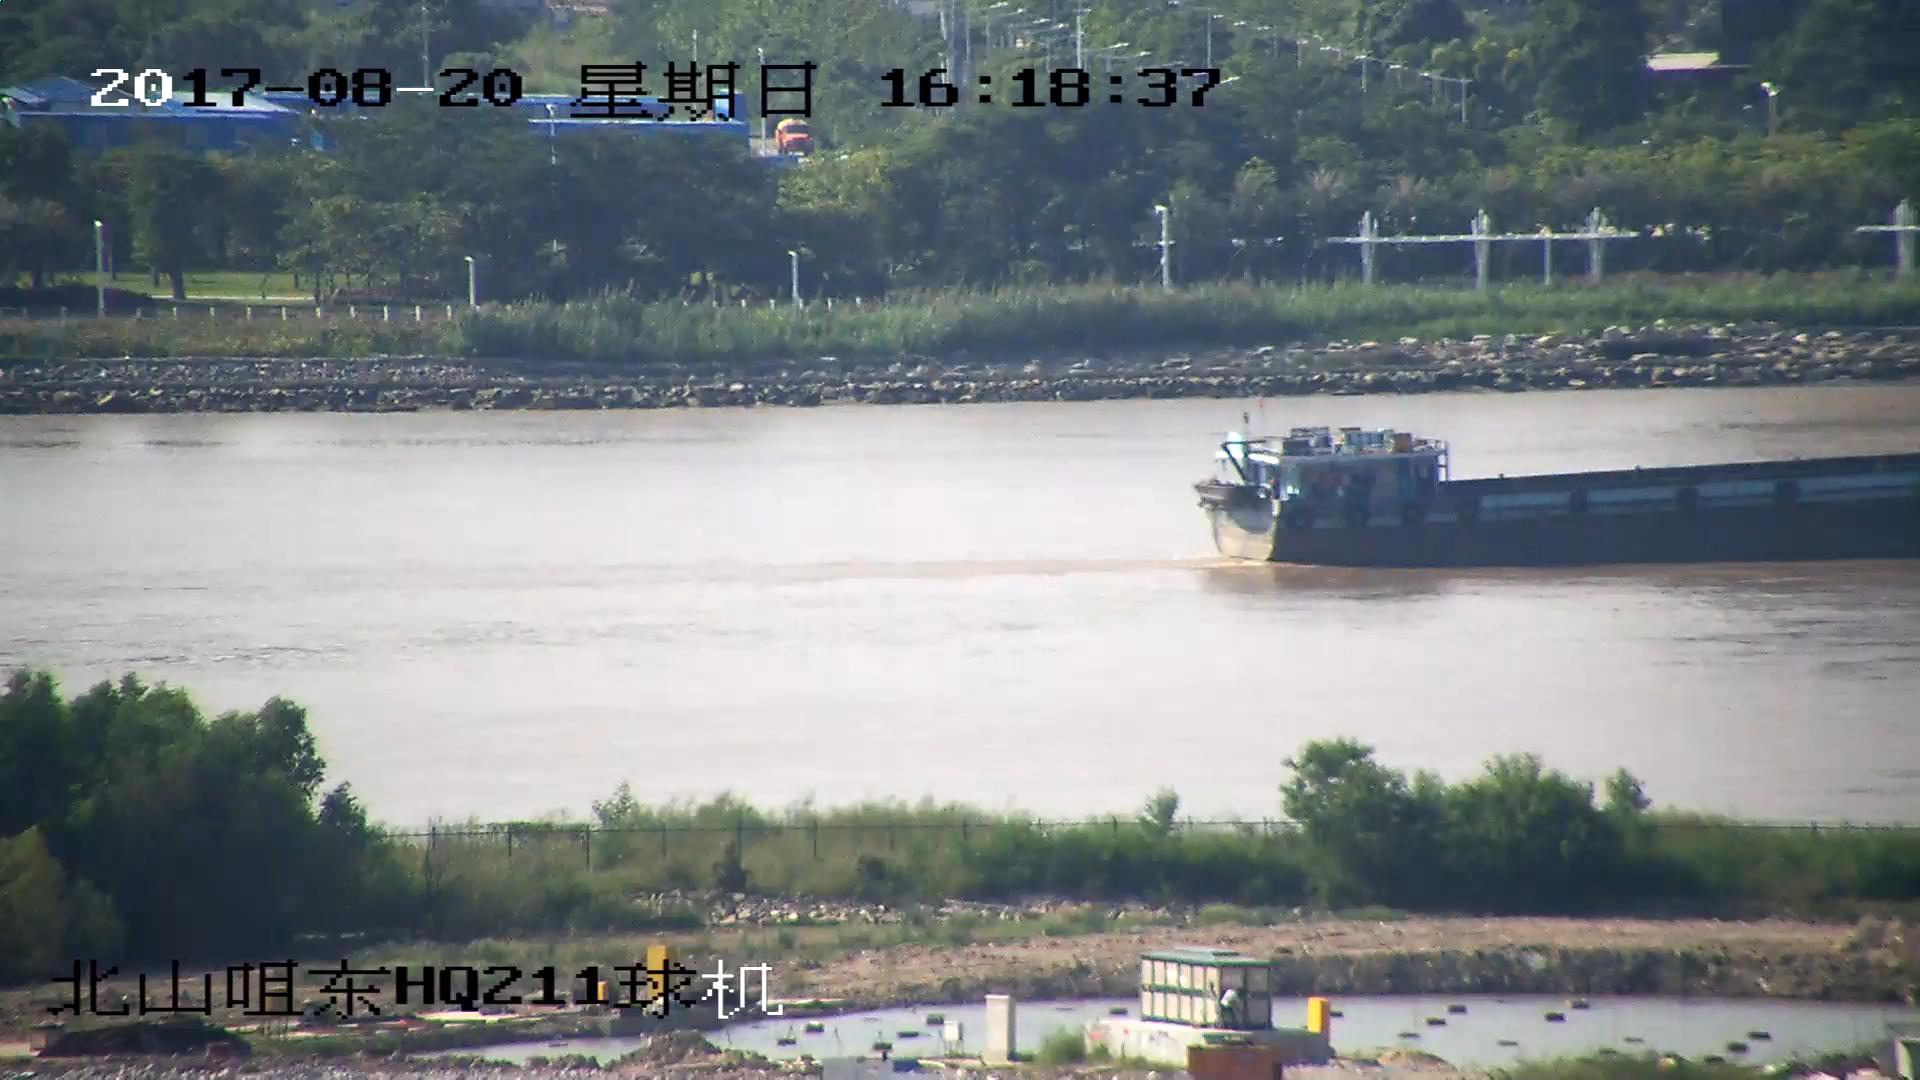general cargo ship: (1205, 430, 1920, 570)
